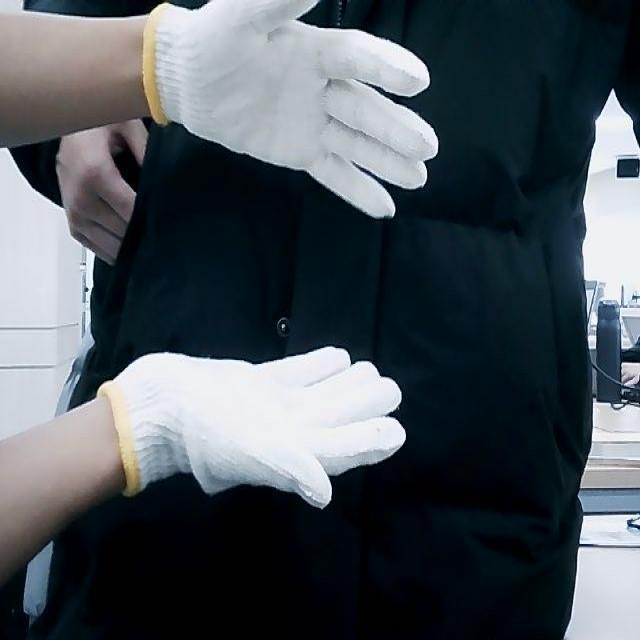Guantes: (146, 0, 441, 223), (103, 343, 407, 512)
